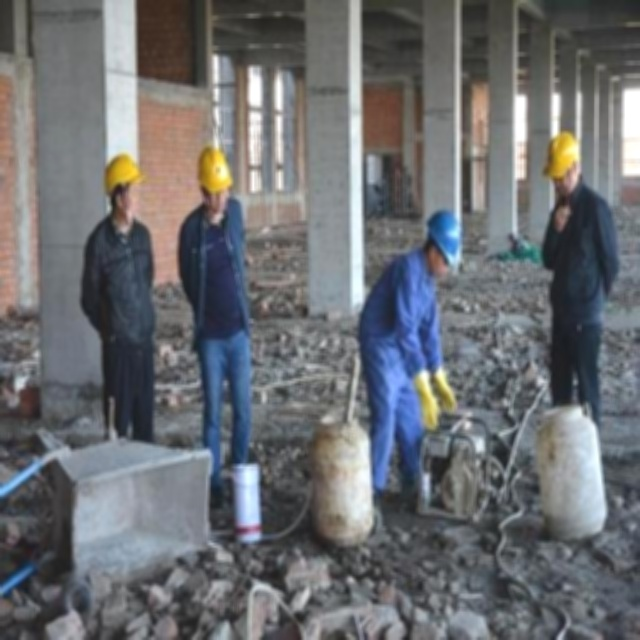Con_Casco: (422, 212, 464, 272), (197, 142, 230, 202)
Sin_Chaleco: (87, 222, 151, 340)
